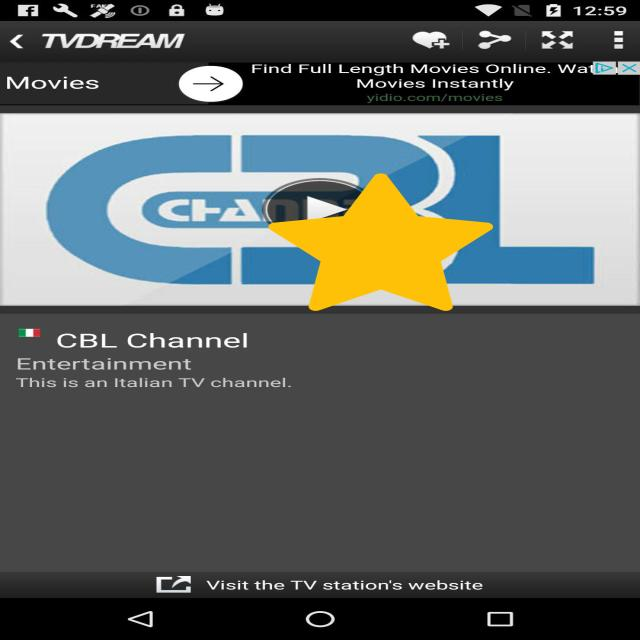forced continuity: (268, 173, 493, 311)
